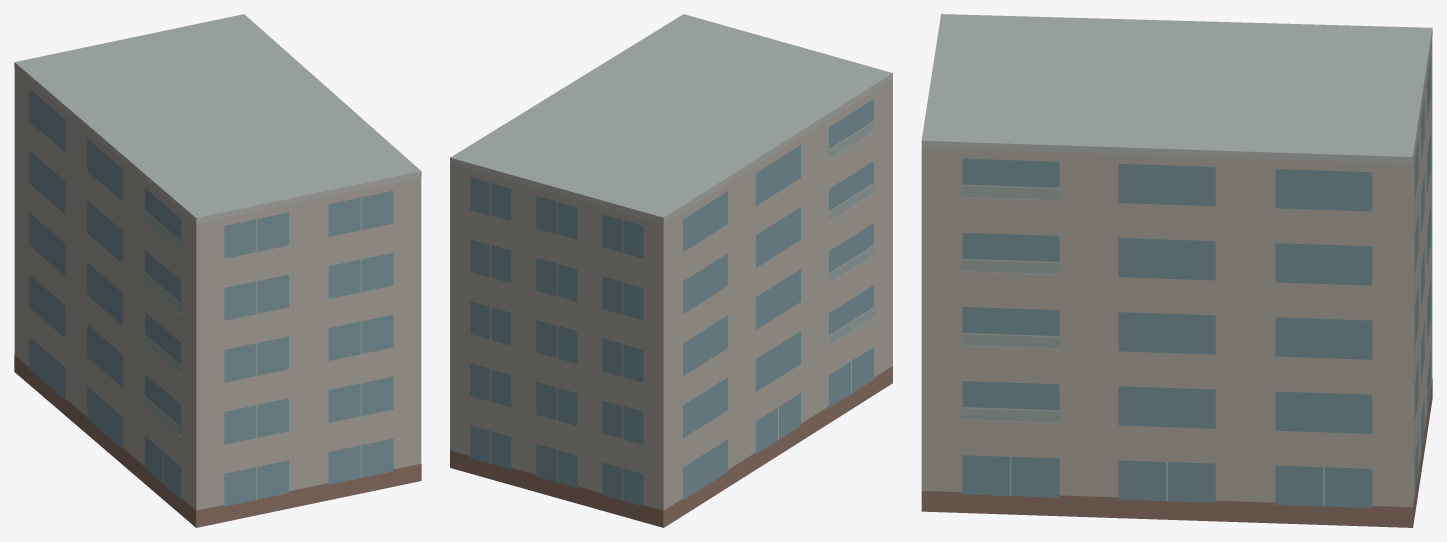
Rendered from survey-upis-32873140.glb.
The picture shows the model from 3 angles, left to right: view 1: azimuth 30°, elevation 25°; view 2: azimuth 150°, elevation 25°; view 3: azimuth 270°, elevation 25°; orthographic projection. The views are drawn at different scales.
Visible parts, largest first — view 1: survey-upis-32873140.tmp; view 2: survey-upis-32873140.tmp; view 3: survey-upis-32873140.tmp.
Part boxes in pixels (left/top/right/bottom): survey-upis-32873140.tmp: left=14, top=14, right=421, bottom=527; survey-upis-32873140.tmp: left=450, top=14, right=892, bottom=527; survey-upis-32873140.tmp: left=921, top=14, right=1432, bottom=527.
Bounding box in the file's own units: 10.86 × 13.1 × 16.37.
